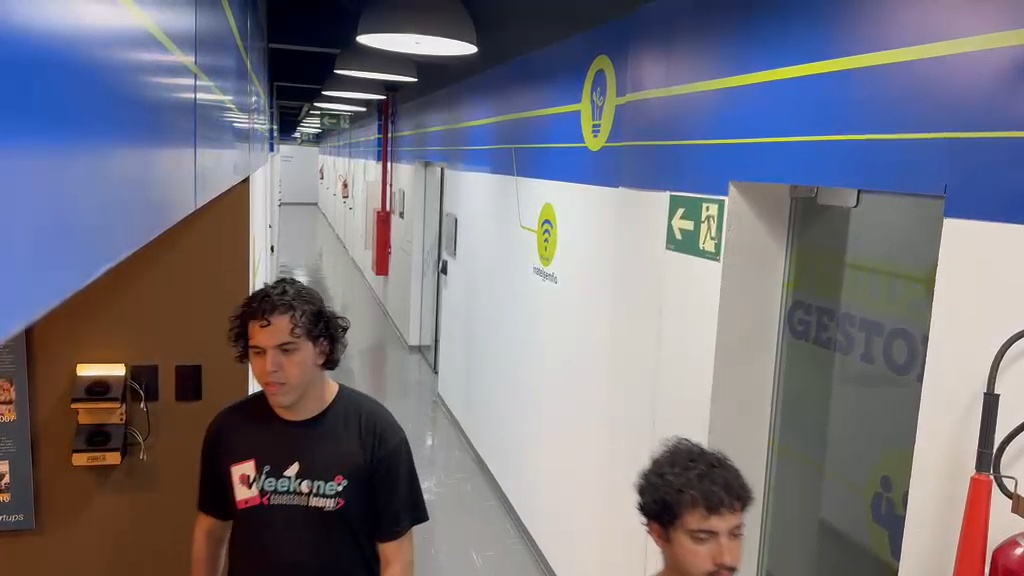person: (190, 277, 431, 572), (633, 436, 753, 574)
